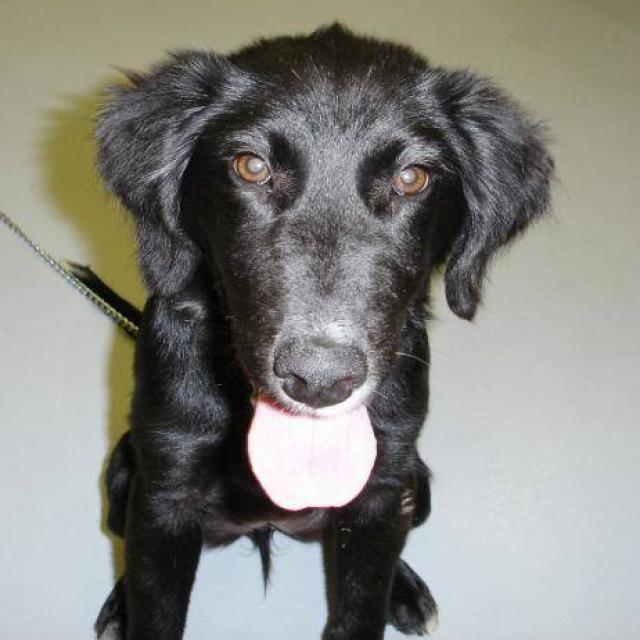dog: (78, 19, 558, 639)
